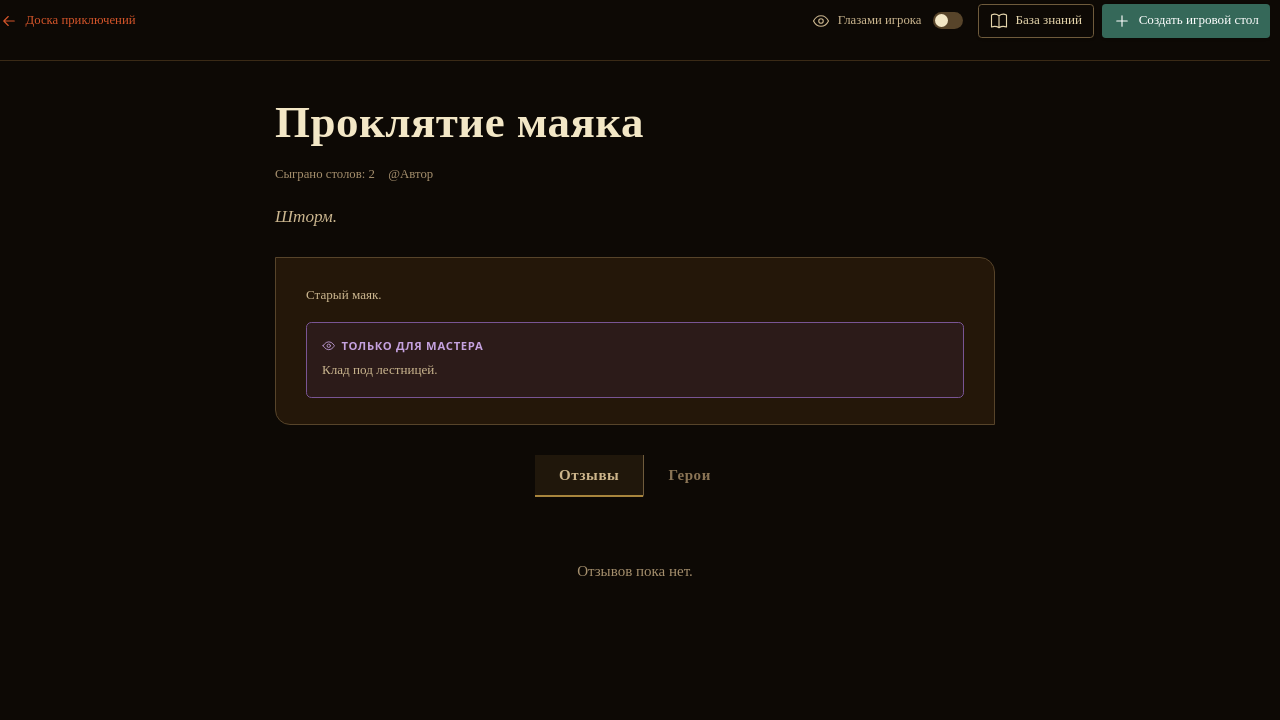
Test: public campaign page › closes table creation without navigating away from the campaign
Click the button "Создать игровой стол" at (1186, 21), box [1102,4,1270,38]
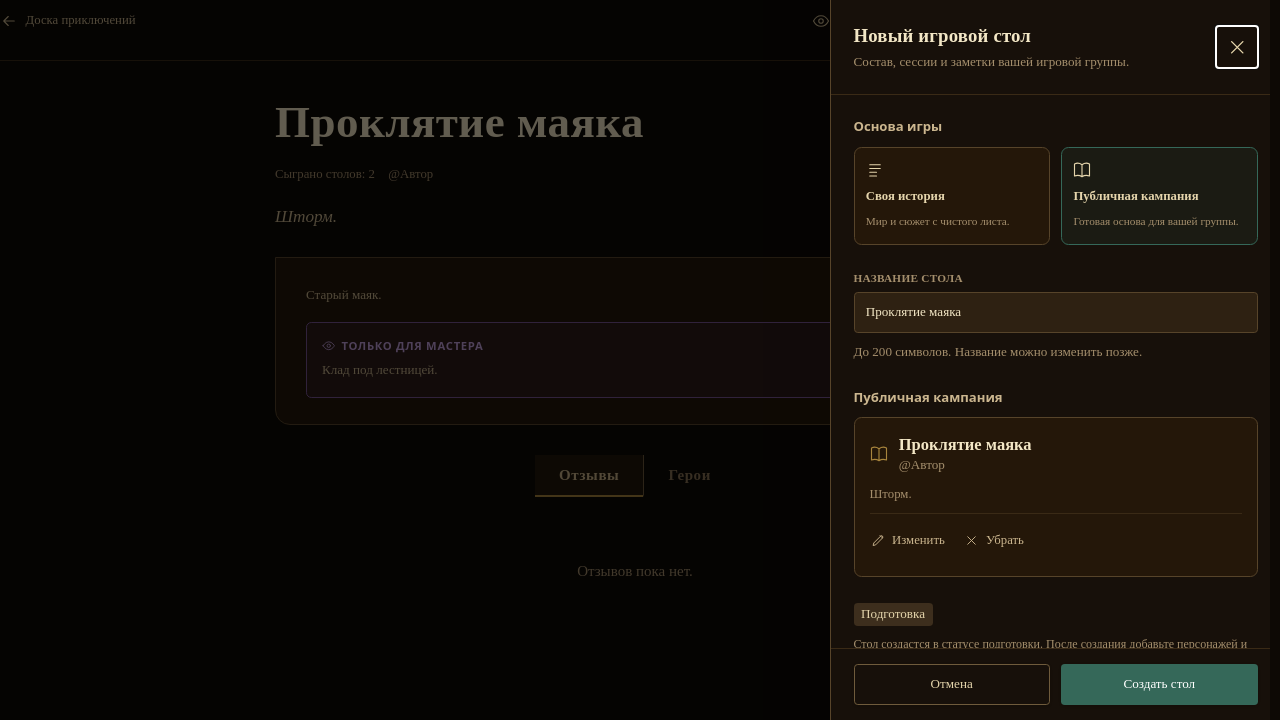
Press Escape
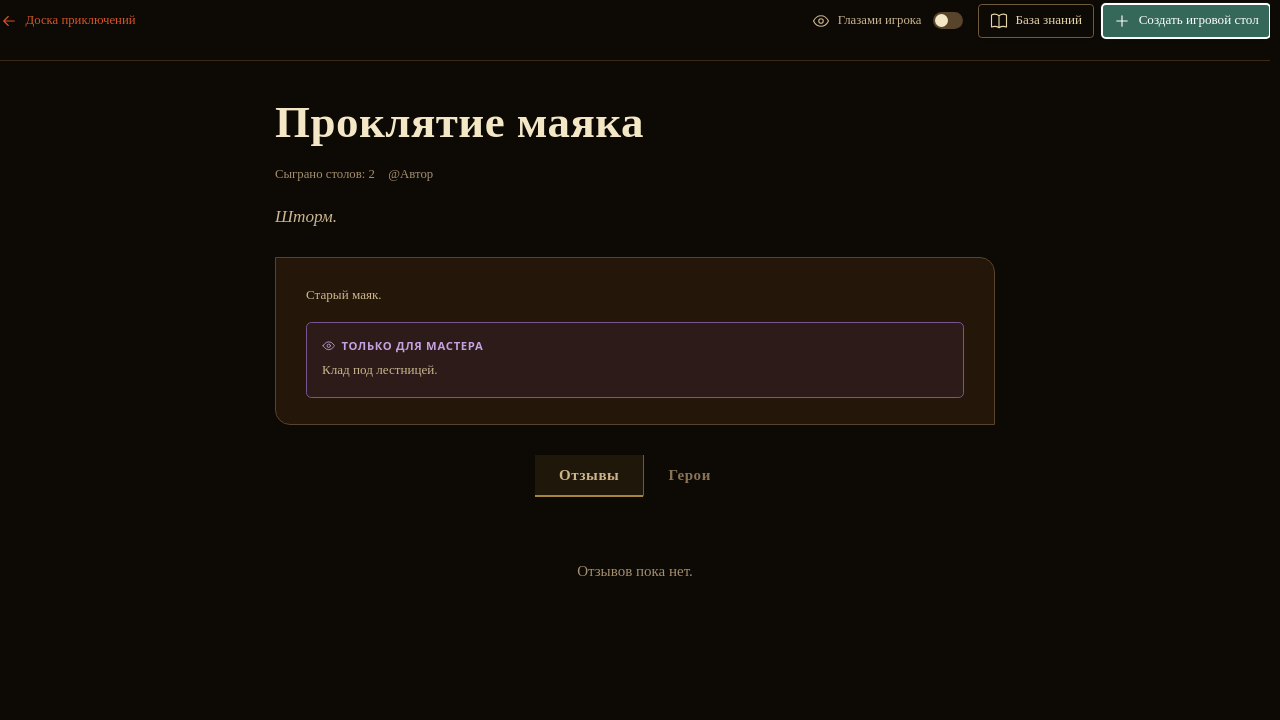
Expected: the heading "Проклятие маяка" is shown, [275,97,644,147]
Expected: the dialog is gone
